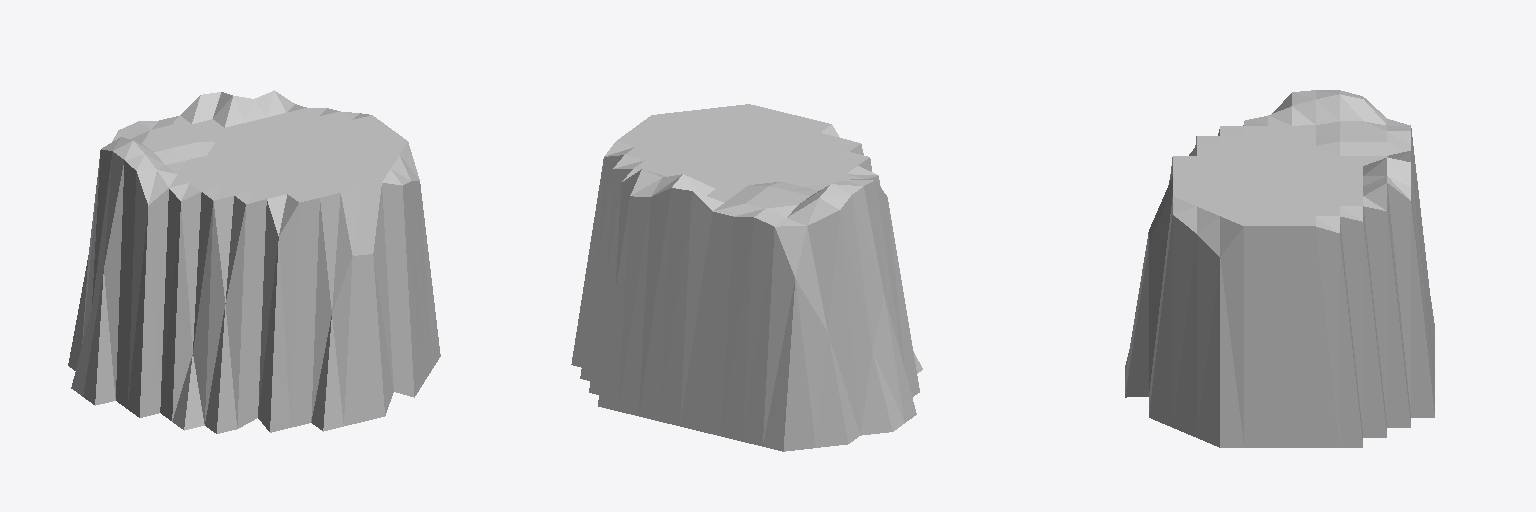
The model's file is lty_td.obj.
The picture shows the model from 3 angles: view 1: azimuth 30°, elevation 25°; view 2: azimuth 150°, elevation 25°; view 3: azimuth 270°, elevation 25°; orthographic projection.
Parts seen in each view (by area): view 1: 2; view 2: 2; view 3: 2.
Part boxes in pixels (bbox=[...]): 2: bbox=[68, 90, 440, 433]; 2: bbox=[571, 104, 922, 451]; 2: bbox=[1125, 90, 1434, 447].
Bounding box in the file's own units: 15.34 × 11.01 × 13.29.